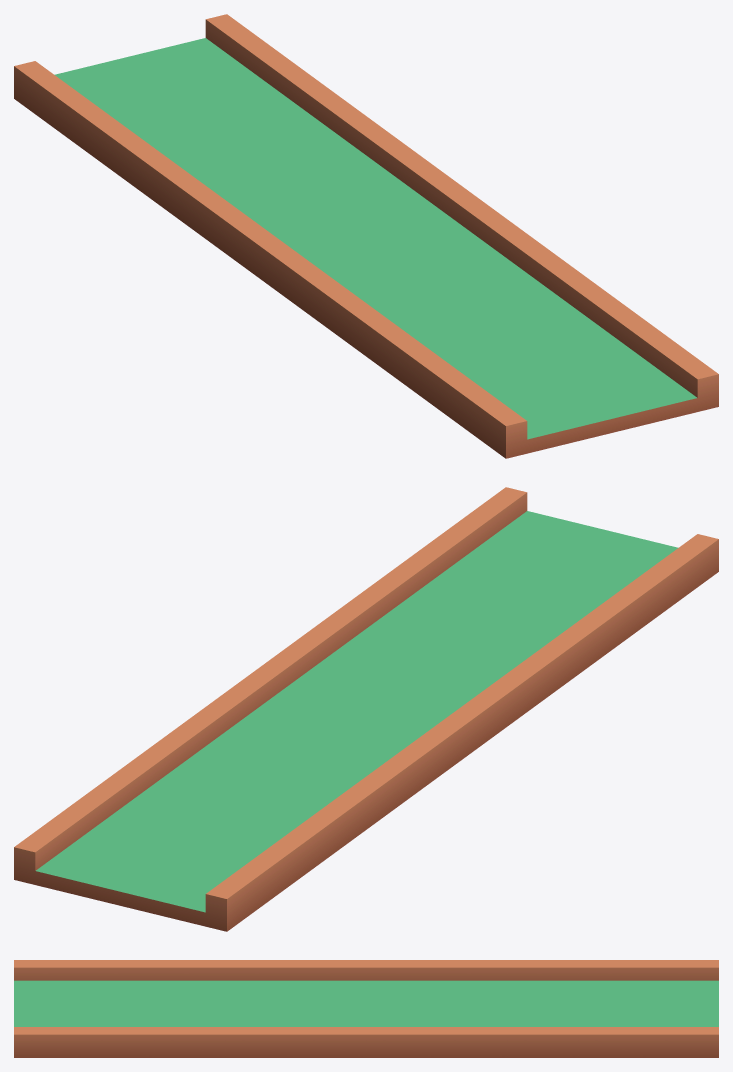
The model's file is spline-default-straight.glb.
3 views of the same model, one above another, from view 1: azimuth 30°, elevation 25°; view 2: azimuth 150°, elevation 25°; view 3: azimuth 270°, elevation 25° (orthographic). The views are drawn at different scales.
Parts seen in each view (by area): view 1: spline-default-straight; view 2: spline-default-straight; view 3: spline-default-straight.
Boxes of the visible parts, x1=… form: spline-default-straight: x1=14, y1=14, x2=718, y2=458; spline-default-straight: x1=14, y1=487, x2=718, y2=931; spline-default-straight: x1=14, y1=960, x2=718, y2=1057.
Bounding box in the file's own units: 1 × 0.1465 × 4.
1 material, 1 textured.
